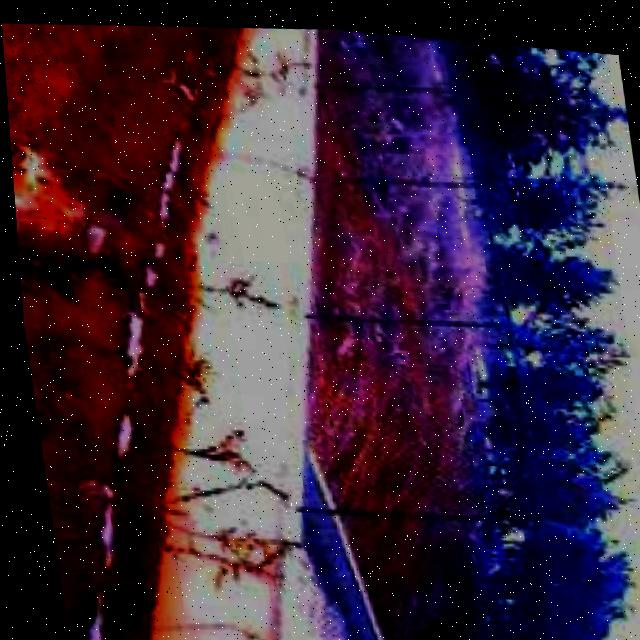Fire: (8, 131, 97, 244)
